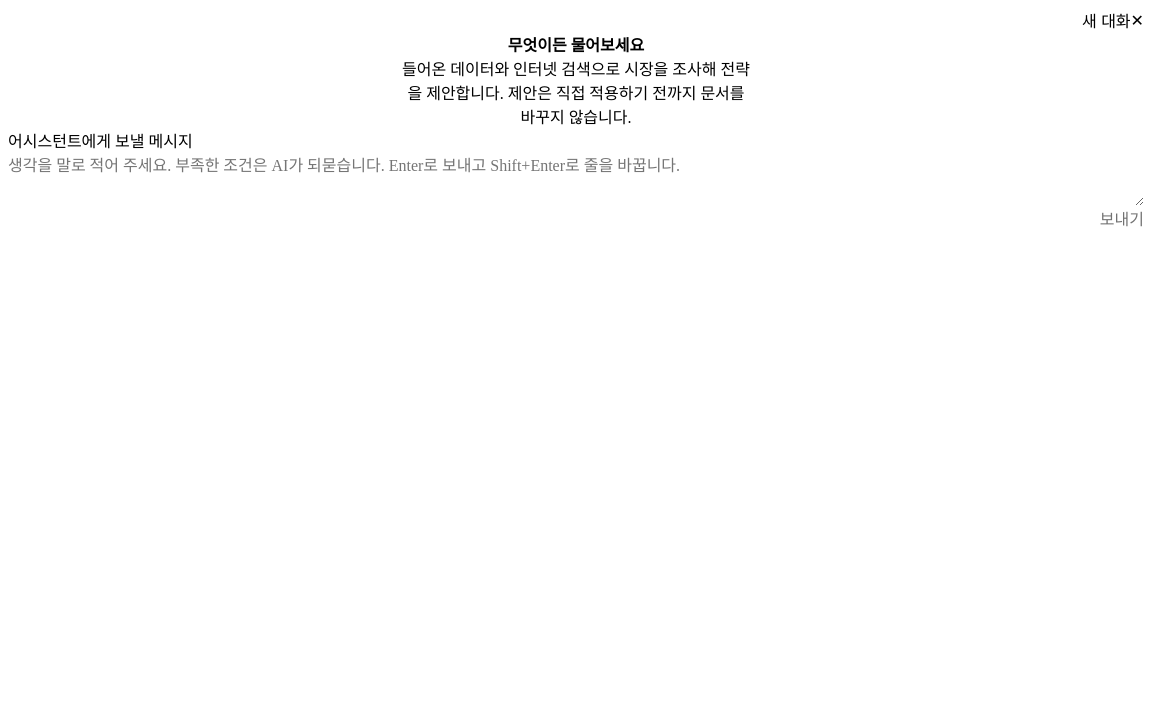
Test: AssistStrategySidebar › 진행 중 턴이 있으면 닫기를 막고 무엇을 확인하는지 설명한다
In the text box labelled "어시스턴트에게 보낼 메시지": (576, 179) x1=8 y1=152 x2=1144 y2=206, type "지금 시장에 맞는 전략을 제안해 줘"
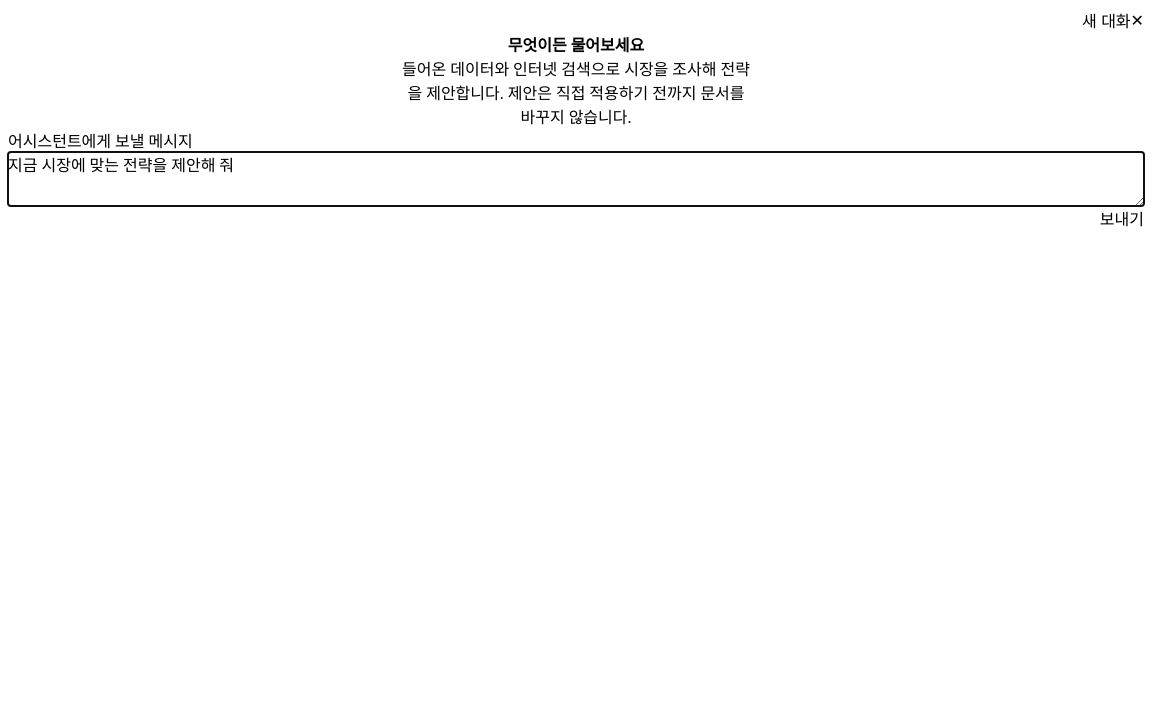
Press Enter
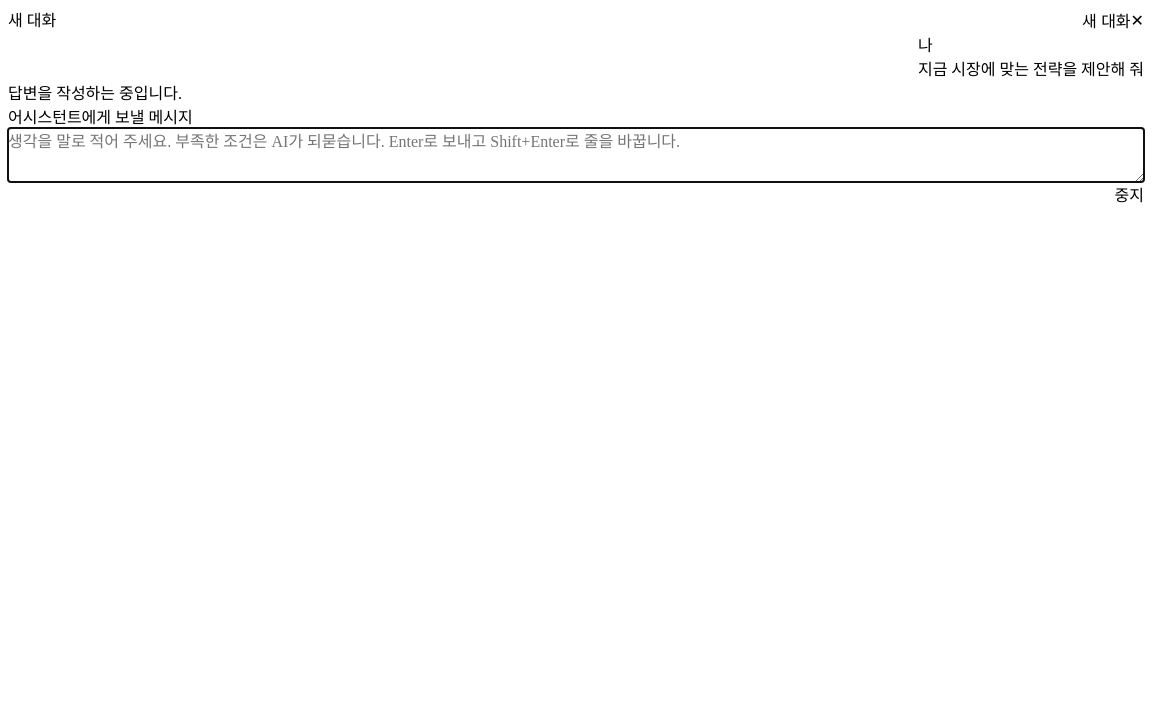
Click the button named "사이드바 닫기": (1137, 20) x1=1131 y1=10 x2=1144 y2=30
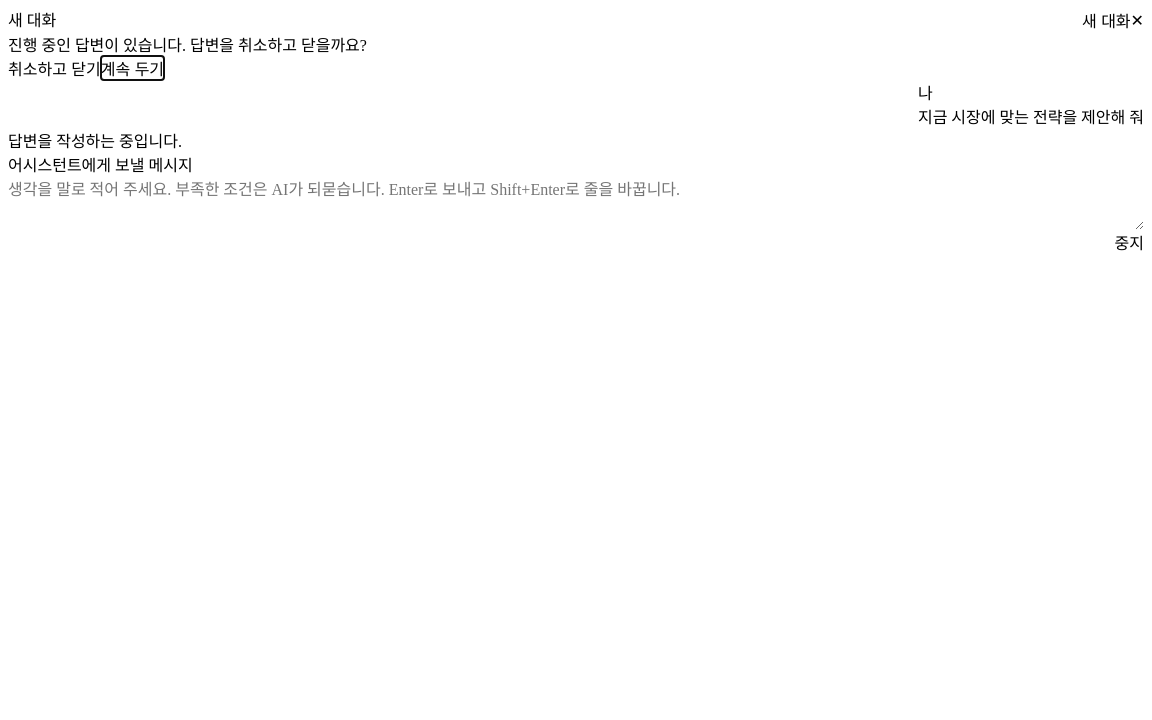
Now the dialog shows "진행 중인 답변이 있습니다", box x1=8 y1=37 x2=367 y2=54
